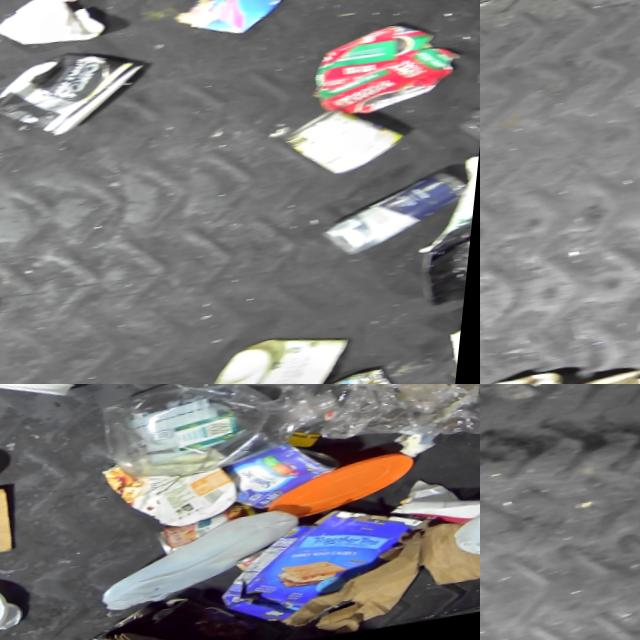can: (310, 18, 470, 124), (282, 104, 416, 186), (230, 439, 356, 518), (162, 501, 272, 559), (320, 367, 410, 384), (244, 551, 277, 575), (477, 64, 480, 96)
milk_jug: (106, 509, 316, 615), (457, 467, 480, 566)
non_white_jug: (221, 502, 439, 633), (101, 384, 355, 488), (105, 442, 256, 541)
